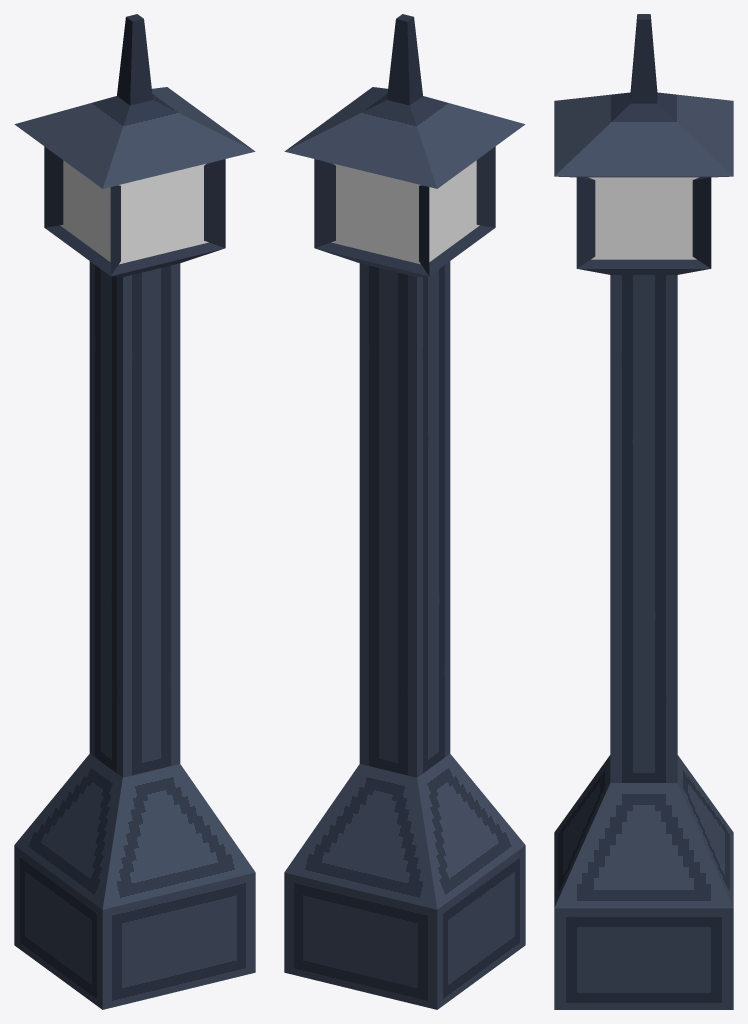
Rendered from Lamp.gltf.
3 renders of one model, left to right at view 1: azimuth 30°, elevation 25°; view 2: azimuth 150°, elevation 25°; view 3: azimuth 270°, elevation 25°, orthographic.
Visible parts, largest first — view 1: cuboid (×2); view 2: cuboid (×2); view 3: cuboid (×2).
Part boxes in pixels (bbox=[...]): cuboid (×2): bbox=[14, 14, 255, 1009]; cuboid (×2): bbox=[284, 14, 525, 1009]; cuboid (×2): bbox=[554, 14, 733, 1009].
Size of the model in its own units: 1 by 5.88 by 1.
2 materials, 1 textured.
